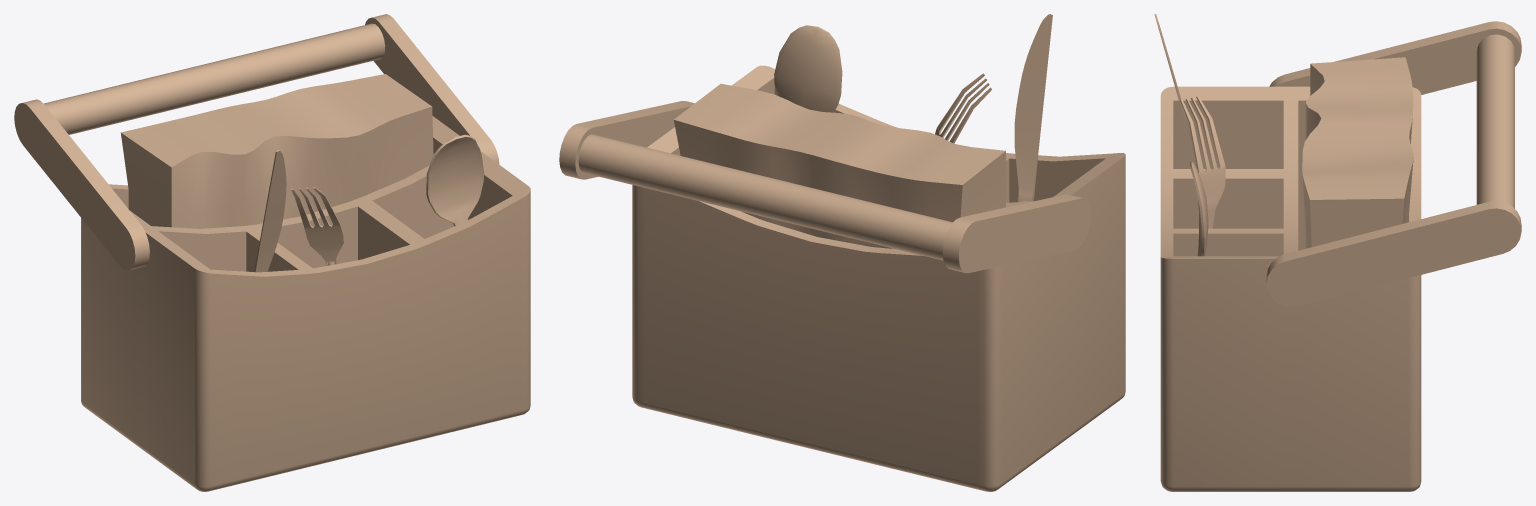
File: Tableware_1_hi.fbx
3 views of the same model, side by side, from view 1: azimuth 30°, elevation 25°; view 2: azimuth 150°, elevation 25°; view 3: azimuth 270°, elevation 25° (orthographic). The views are drawn at different scales.
Parts seen in each view (by area): view 1: Tableware_1, Tableware_1_napkin, Tableware_1_1, Tableware_1_spoon, Tableware_1_knife, Tableware_1_fork; view 2: Tableware_1, Tableware_1_1, Tableware_1_napkin, Tableware_1_spoon, Tableware_1_knife, Tableware_1_fork; view 3: Tableware_1, Tableware_1_1, Tableware_1_napkin, Tableware_1_fork, Tableware_1_spoon, Tableware_1_knife.
Part boxes in pixels (left/top/right/bottom): Tableware_1: left=81, top=116, right=530, bottom=491; Tableware_1_napkin: left=120, top=74, right=433, bottom=228; Tableware_1_1: left=14, top=14, right=499, bottom=270; Tableware_1_spoon: left=426, top=134, right=484, bottom=226; Tableware_1_knife: left=254, top=150, right=286, bottom=272; Tableware_1_fork: left=291, top=187, right=343, bottom=265; Tableware_1: left=632, top=65, right=1125, bottom=491; Tableware_1_1: left=559, top=101, right=1091, bottom=273; Tableware_1_napkin: left=674, top=83, right=1005, bottom=248; Tableware_1_spoon: left=774, top=25, right=842, bottom=112; Tableware_1_knife: left=1014, top=14, right=1052, bottom=201; Tableware_1_fork: left=935, top=73, right=991, bottom=143; Tableware_1: left=1160, top=86, right=1421, bottom=491; Tableware_1_1: left=1266, top=21, right=1521, bottom=306; Tableware_1_napkin: left=1302, top=57, right=1413, bottom=248; Tableware_1_fork: left=1180, top=96, right=1225, bottom=228; Tableware_1_spoon: left=1190, top=161, right=1208, bottom=256; Tableware_1_knife: left=1154, top=14, right=1197, bottom=168.
Size of the model in its own units: 27.2 by 23.53 by 22.53.
